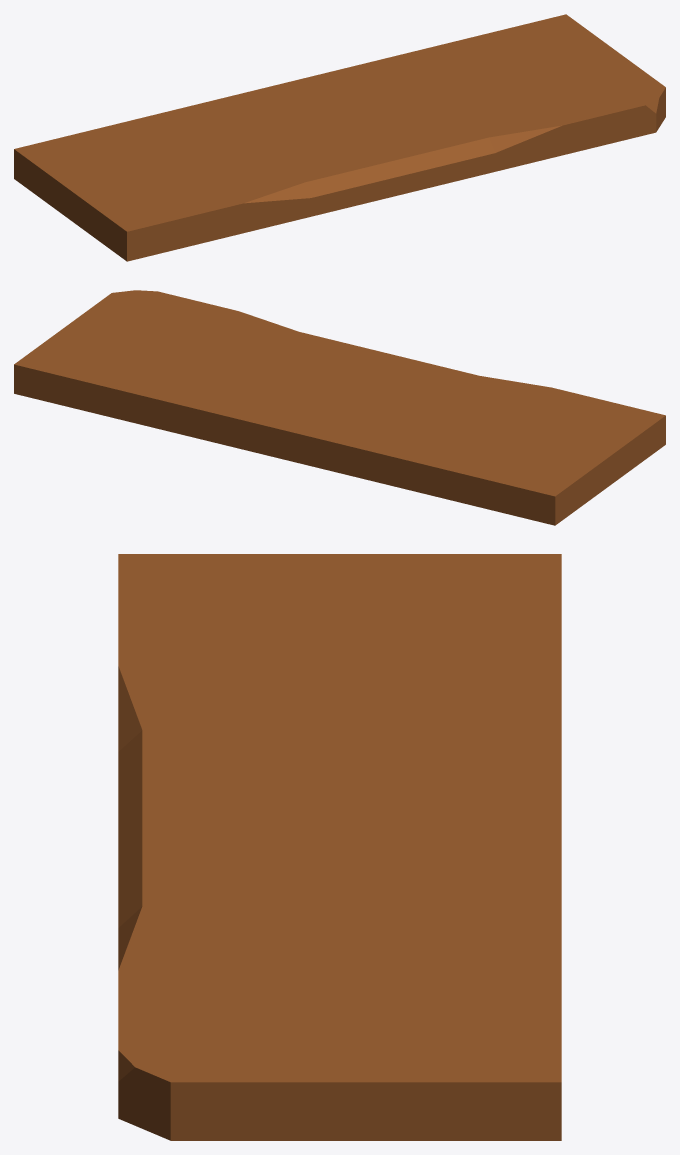
The model's file is Witch_Shelf_Vertical.fbx.
3 views of the same model, one above another, from view 1: azimuth 30°, elevation 25°; view 2: azimuth 150°, elevation 25°; view 3: azimuth 270°, elevation 25° (orthographic). The views are drawn at different scales.
Visible parts, largest first — view 1: Shelf_Vertical; view 2: Shelf_Vertical; view 3: Shelf_Vertical.
Part boxes in pixels (box(x1,y1,x2,y2)): Shelf_Vertical: box(14, 14, 665, 261); Shelf_Vertical: box(14, 290, 665, 525); Shelf_Vertical: box(118, 554, 561, 1140).
Bounding box in the file's own units: 321 × 16.58 × 114.
